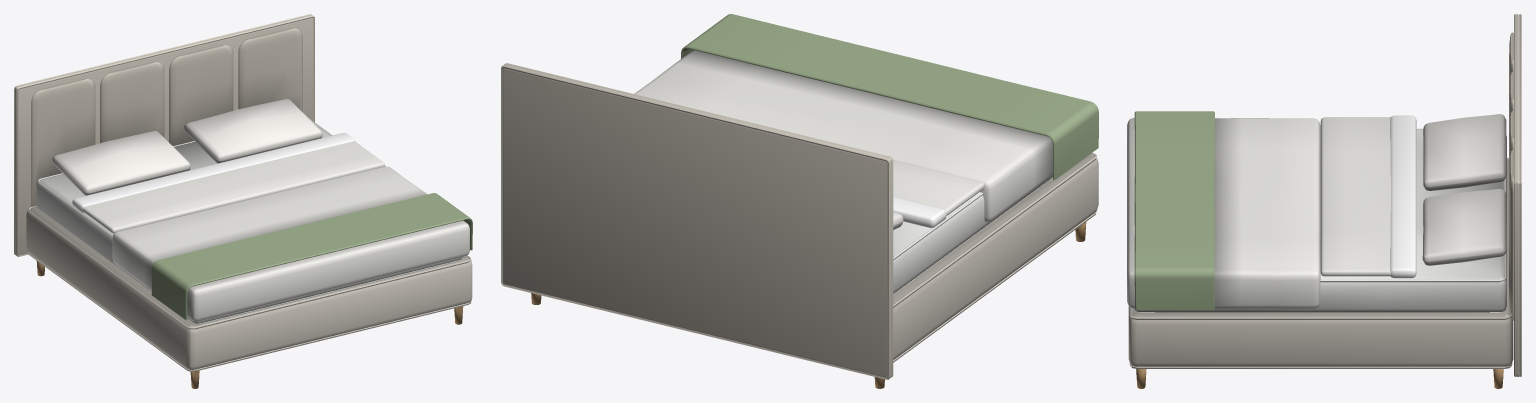
File: bed.glb
The picture shows the model from 3 angles, left to right: view 1: azimuth 30°, elevation 25°; view 2: azimuth 150°, elevation 25°; view 3: azimuth 270°, elevation 25°; orthographic projection. The views are drawn at different scales.
Parts seen in each view (by area): view 1: bed, duvet_flap; view 2: bed, duvet_flap; view 3: bed, duvet_flap.
Part boxes in pixels (<box>): bed: <box>14,14,472,388</box>; duvet_flap: <box>72,133,385,233</box>; bed: <box>501,14,1098,388</box>; duvet_flap: <box>893,160,984,227</box>; bed: <box>1127,14,1521,388</box>; duvet_flap: <box>1320,115,1416,278</box>.
Bounding box in the file's own units: 1.9 × 1.13 × 1.88.
